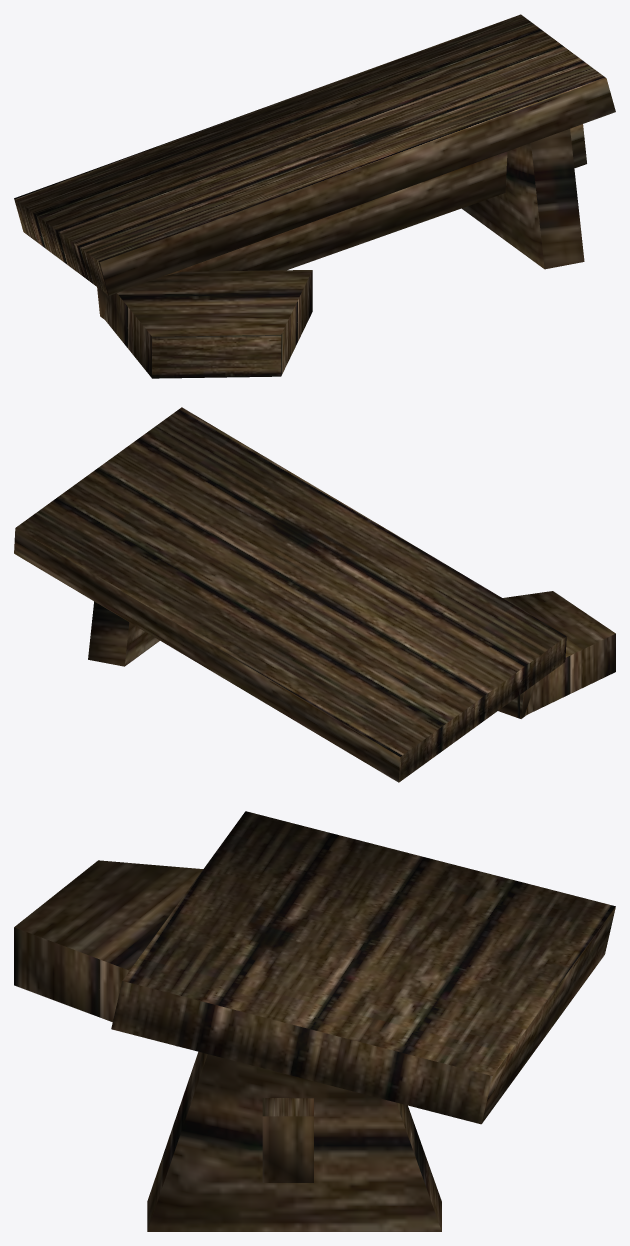
The model's file is OC_TABLE_V1_DESTROYED.glb.
The picture shows the model from 3 angles, top to bottom: view 1: azimuth 30°, elevation 25°; view 2: azimuth 150°, elevation 25°; view 3: azimuth 270°, elevation 25°; orthographic projection. The views are drawn at different scales.
Parts seen in each view (by area): view 1: Mesh; view 2: Mesh; view 3: Mesh.
Boxes of the visible parts, left/top/right/bottom form: Mesh: left=14, top=14, right=615, bottom=378; Mesh: left=14, top=407, right=615, bottom=782; Mesh: left=14, top=811, right=615, bottom=1231.
Size of the model in its own units: 2.31 by 0.7988 by 1.68.
1 material, 1 textured.
